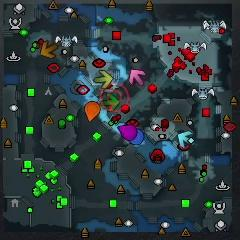p1: (129, 129, 144, 145)
p2: (177, 130, 194, 148)
p3: (118, 124, 138, 142)
p5: (85, 101, 100, 122)
x1: (129, 69, 146, 86)
x2: (96, 70, 113, 89)
x4: (101, 93, 120, 111)
x5: (40, 41, 59, 59)
